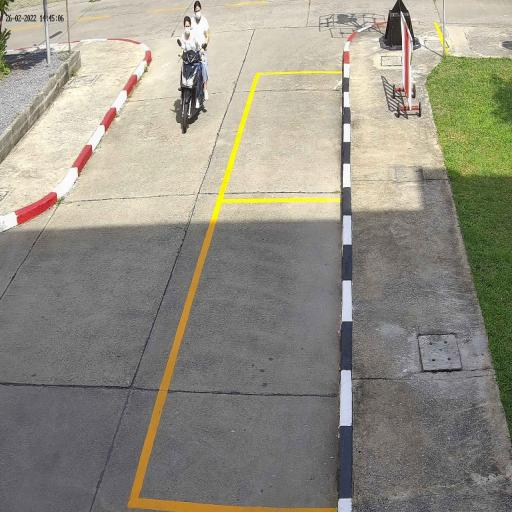motorcycle: (179, 48, 202, 134)
